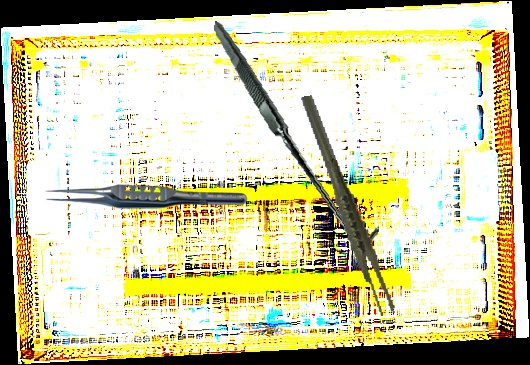Hook Surgical: (190, 21, 402, 245)
Tissue Forceps: (299, 87, 397, 324), (42, 184, 248, 210)
